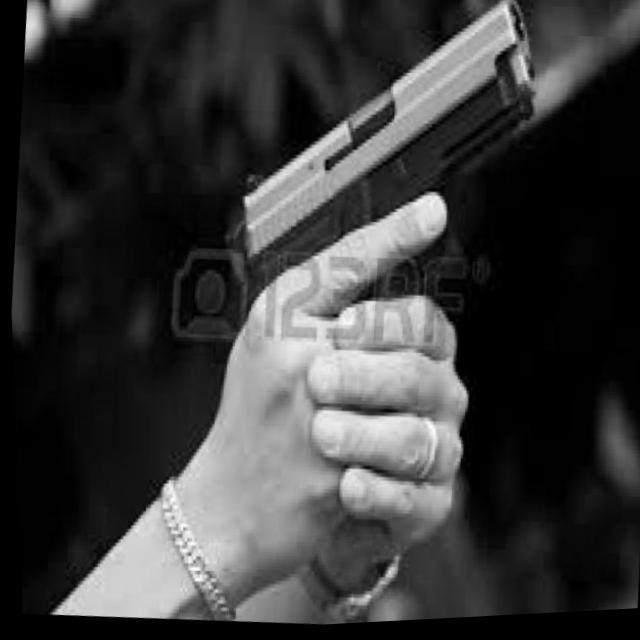weapon: (204, 0, 559, 575)
